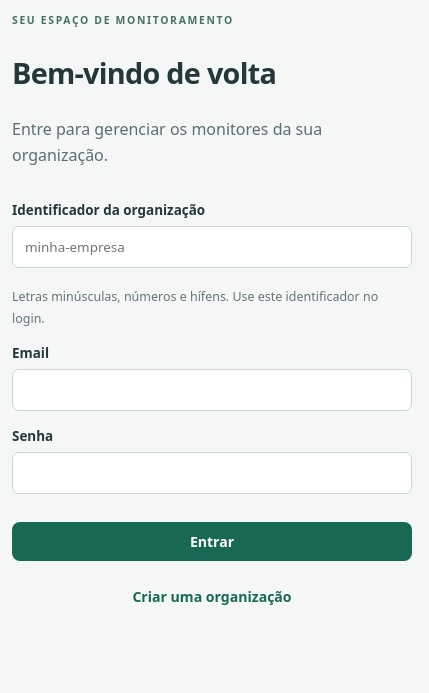
Test: AuthForm › shows an authentication error and allows retry
Type "acme" into the field labelled "Identificador da organização" at (212, 247), box [12,226,412,268]
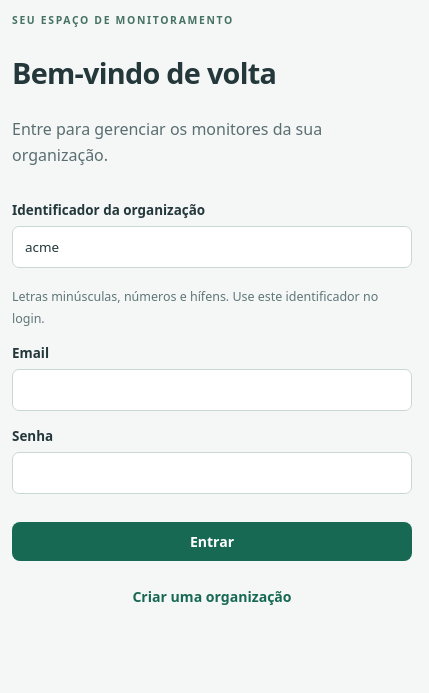
Type "owner@example.com" into the field labelled "Email" at (212, 390), box [12,369,412,411]
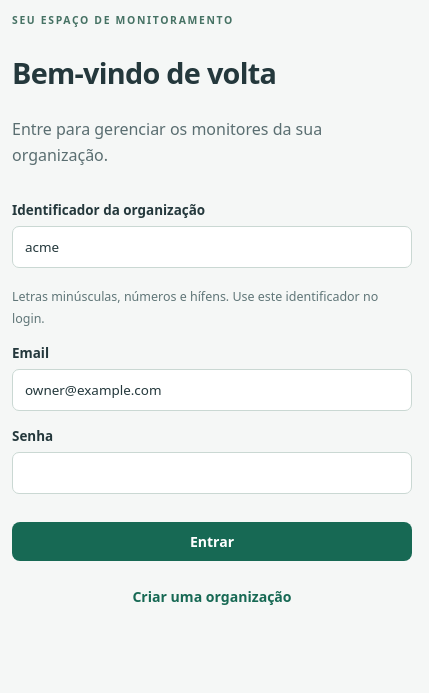
Type "wrong" into the password field labelled "Senha" at (212, 473), box [12,452,412,494]
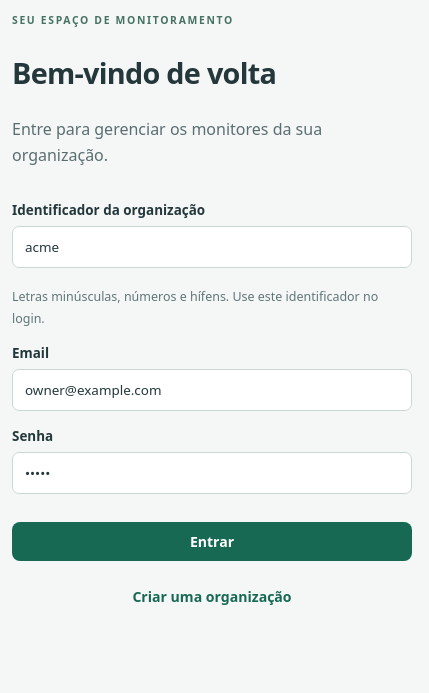
Click the button "Entrar" at (212, 541), box [12,522,412,561]
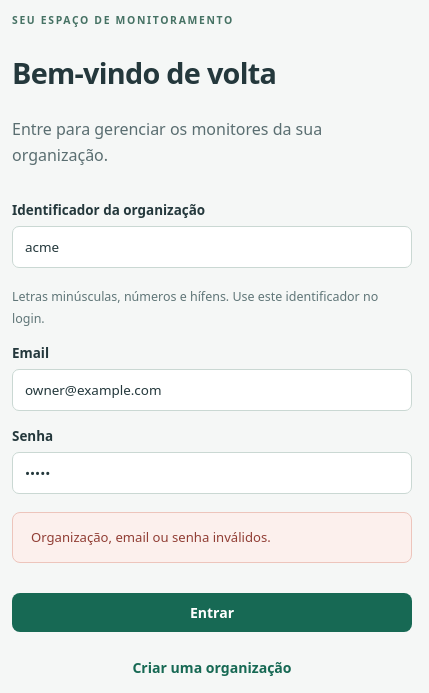
Expected: the button "Entrar" is enabled, [12,593,412,632]
Now the message reads "Organização, email ou senha inválidos.", box [31,528,271,546]
